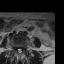CCS_stenosis: (18, 46, 20, 54)
LFS_severe_stenosis: (22, 45, 24, 51)
LLS_stenosis: (20, 46, 22, 53)
RFS_severe_stenosis: (14, 45, 17, 51)
RLS_severe_stenosis: (17, 46, 18, 53)
